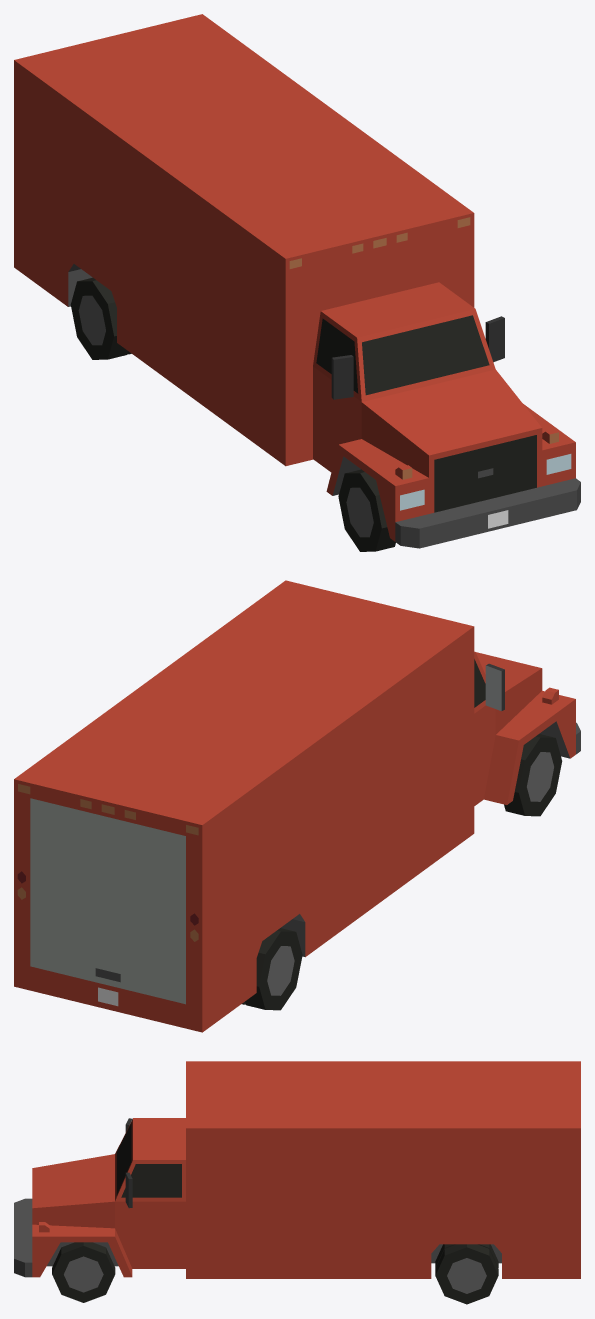
File: Veh_Truck_01_Red.obj
3 views of the same model, one above another, from view 1: azimuth 30°, elevation 25°; view 2: azimuth 150°, elevation 25°; view 3: azimuth 270°, elevation 25° (orthographic). The views are drawn at different scales.
Size of the model in its own units: 1.35 by 1.66 by 4.85.
